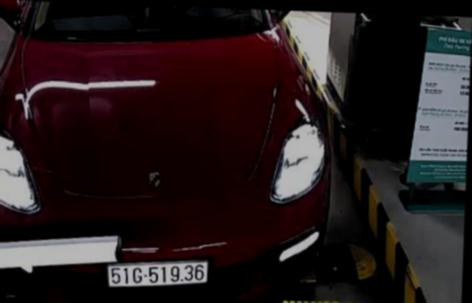License_Plate: (105, 262, 209, 293)
